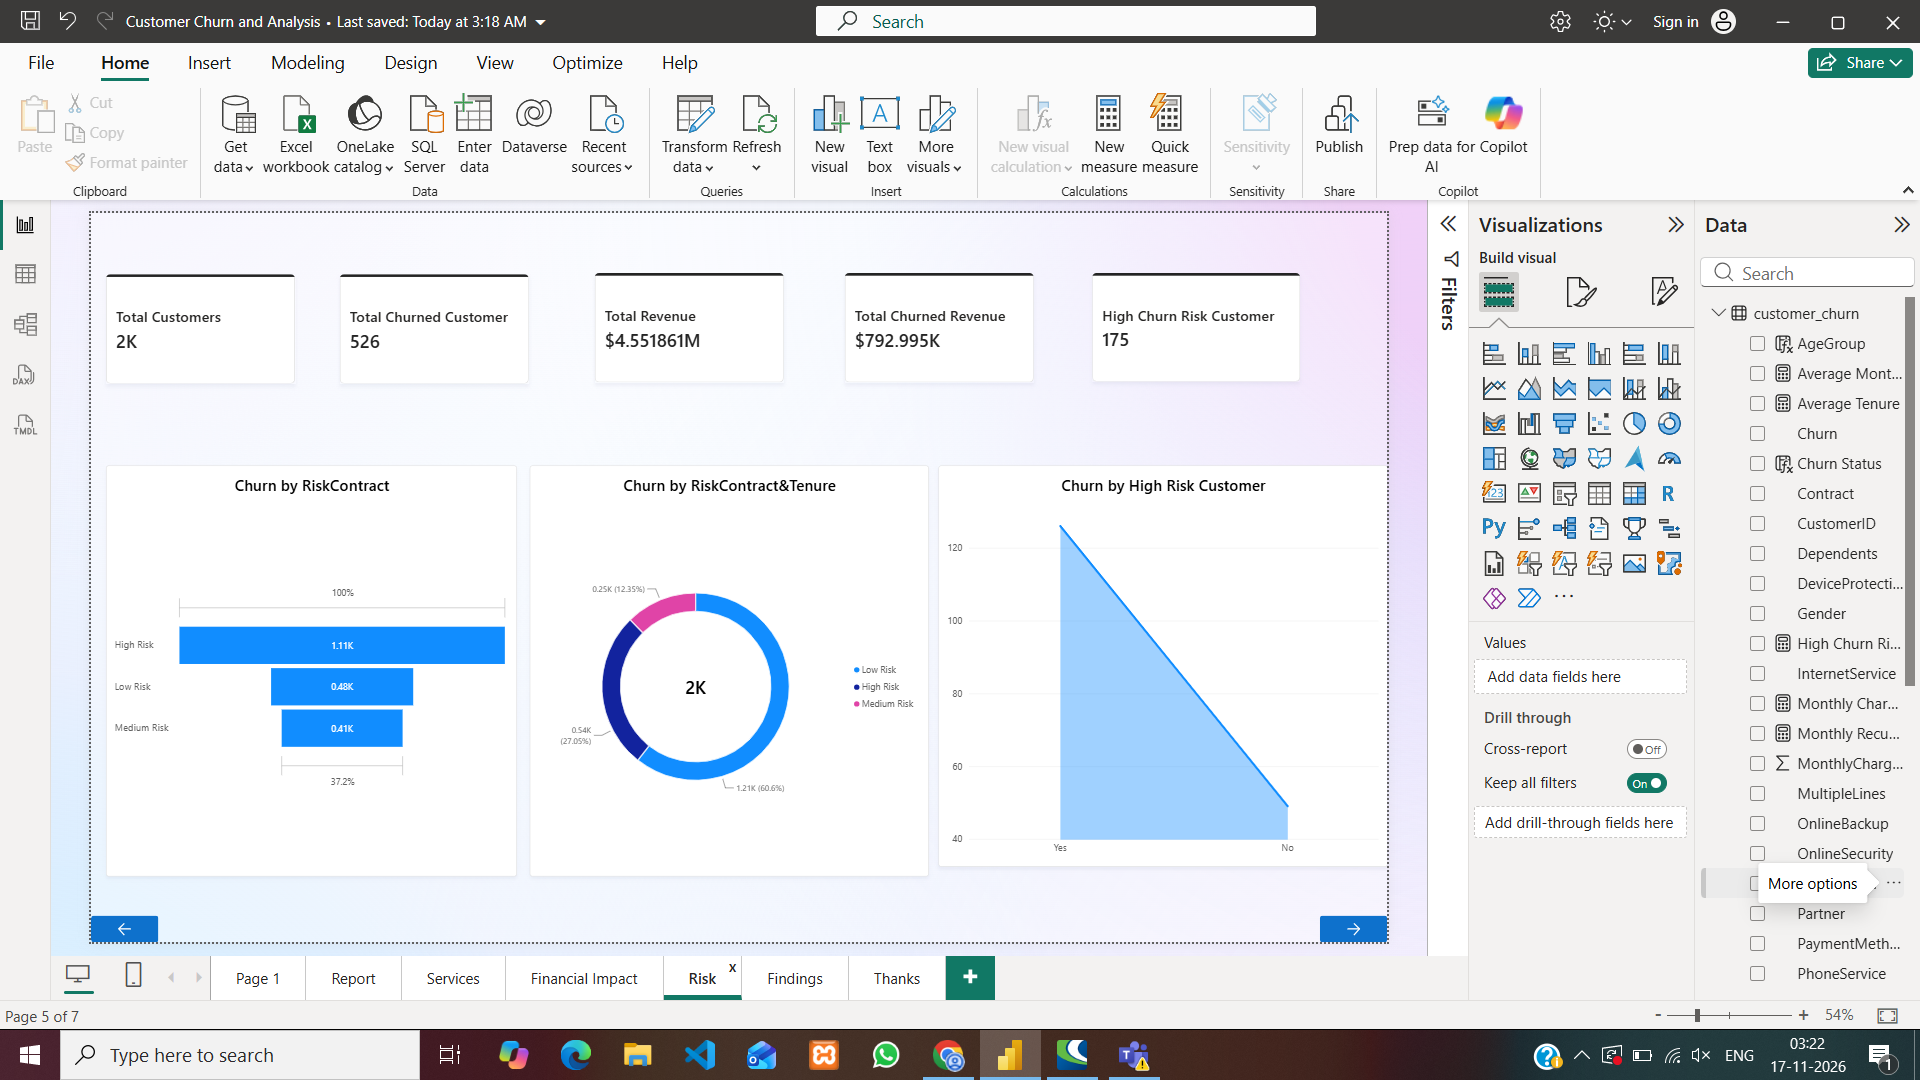

Layout of this report page (visuals, bound fields, positions):
{"tool":"powerbi","page":{"name":"Risk","canvas":[1920,1080],"ordinal":4},"visuals":[{"type":"areaChart","title":"Churn by High Risk Customer","fields":{"Category":["customer_churn.Churn"],"Y":["customer_churn.High Churn Risk Customer"]},"box":[1256.4,374.5,665.5,594.5],"z":0},{"type":"cardVisual","fields":{"Data":["customer_churn.High Churn Risk Customer"]},"box":[1483.7,89.8,308.2,161.2],"z":1000},{"type":"donutChart","title":" Churn by RiskContract&Tenure","fields":{"Category":["customer_churn.RiskContract&Tenure"],"Y":["CountNonNull(customer_churn.Churn)"]},"box":[649.1,374.5,590.9,609.1],"z":2000},{"type":"cardVisual","fields":{"Data":["customer_churn.Total Churned"]},"box":[369.1,90.9,280.5,162.9],"z":3000},{"type":"cardVisual","fields":{"Data":["customer_churn.Total Customers"]},"box":[21.8,90.9,280.5,162.9],"z":4000},{"type":"cardVisual","fields":{"Data":["customer_churn.Total Revenue"]},"box":[745.5,89.1,280.5,162.9],"z":5000},{"type":"cardVisual","fields":{"Data":["customer_churn.Total Churned Revenue"]},"box":[1116.4,89.1,280.5,162.9],"z":6000},{"type":"actionButton","box":[0,1040,100,40],"z":7000},{"type":"actionButton","box":[1820,1040,100,40],"z":8000},{"type":"funnel","title":"Churn by RiskContract","fields":{"Category":["customer_churn.RiskContract"],"Y":["CountNonNull(customer_churn.Churn)"]},"box":[21.8,374.5,609.1,609.1],"z":9000}]}

Visuals, with their boxes on the page's 1920x1080 design canvas (x1, y1, x2, y2). These are canvas units, not pixel positions in the 1920x1080 screenshot, which may show the page scaled, cropped or inside an application window:
"Churn by High Risk Customer" areaChart: 1256 374 1922 969
cardVisual - customer_churn.High Churn Risk Customer: 1484 90 1792 251
" Churn by RiskContract&Tenure" donutChart: 649 374 1240 984
cardVisual - customer_churn.Total Churned: 369 91 650 254
cardVisual - customer_churn.Total Customers: 22 91 302 254
cardVisual - customer_churn.Total Revenue: 746 89 1026 252
cardVisual - customer_churn.Total Churned Revenue: 1116 89 1397 252
actionButton: 0 1040 100 1080
actionButton: 1820 1040 1920 1080
"Churn by RiskContract" funnel: 22 374 631 984
